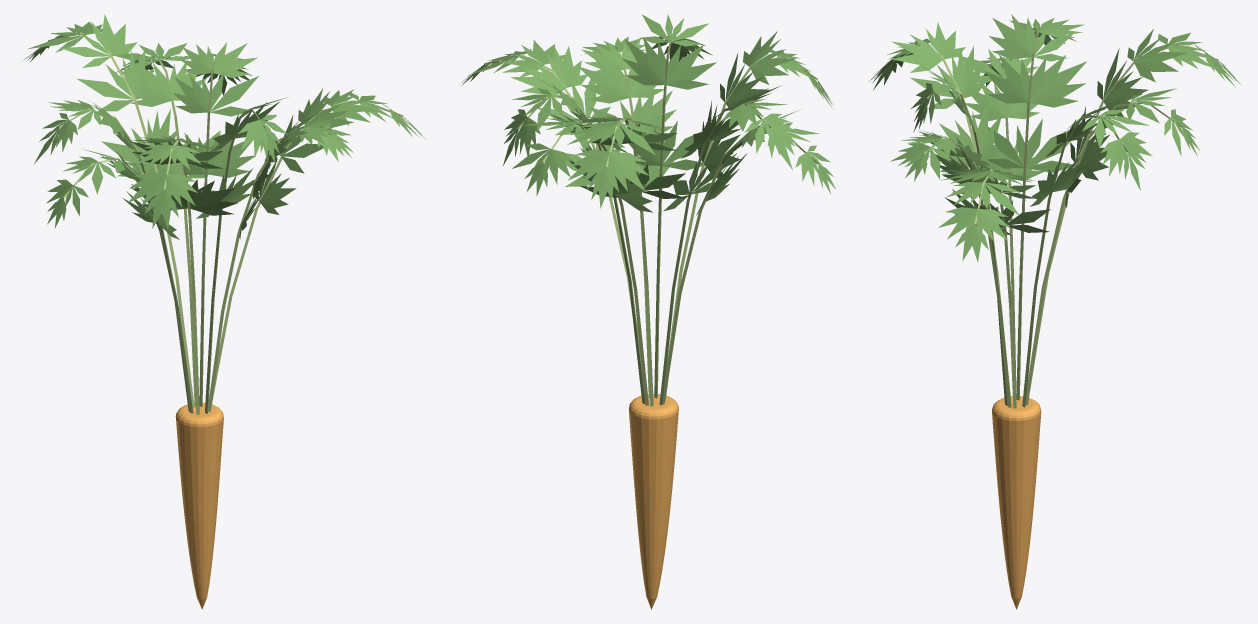
The model's file is carrot_v18.glb.
3 views of the same model, side by side, from view 1: azimuth 30°, elevation 25°; view 2: azimuth 150°, elevation 25°; view 3: azimuth 270°, elevation 25° (orthographic). The views are drawn at different scales.
Parts seen in each view (by area): view 1: leaves, petioles, root; view 2: leaves, petioles, root; view 3: leaves, petioles, root.
Boxes of the visible parts, left/top/right/bottom form: leaves: left=23, top=14, right=426, bottom=239; petioles: left=48, top=32, right=403, bottom=414; root: left=175, top=402, right=223, bottom=609; leaves: left=461, top=14, right=835, bottom=215; petioles: left=484, top=35, right=818, bottom=406; root: left=629, top=394, right=678, bottom=609; leaves: left=869, top=14, right=1242, bottom=262; petioles: left=896, top=28, right=1218, bottom=408; root: left=992, top=396, right=1041, bottom=609.
Size of the model in its own units: 0.305 by 0.4288 by 0.2646.
